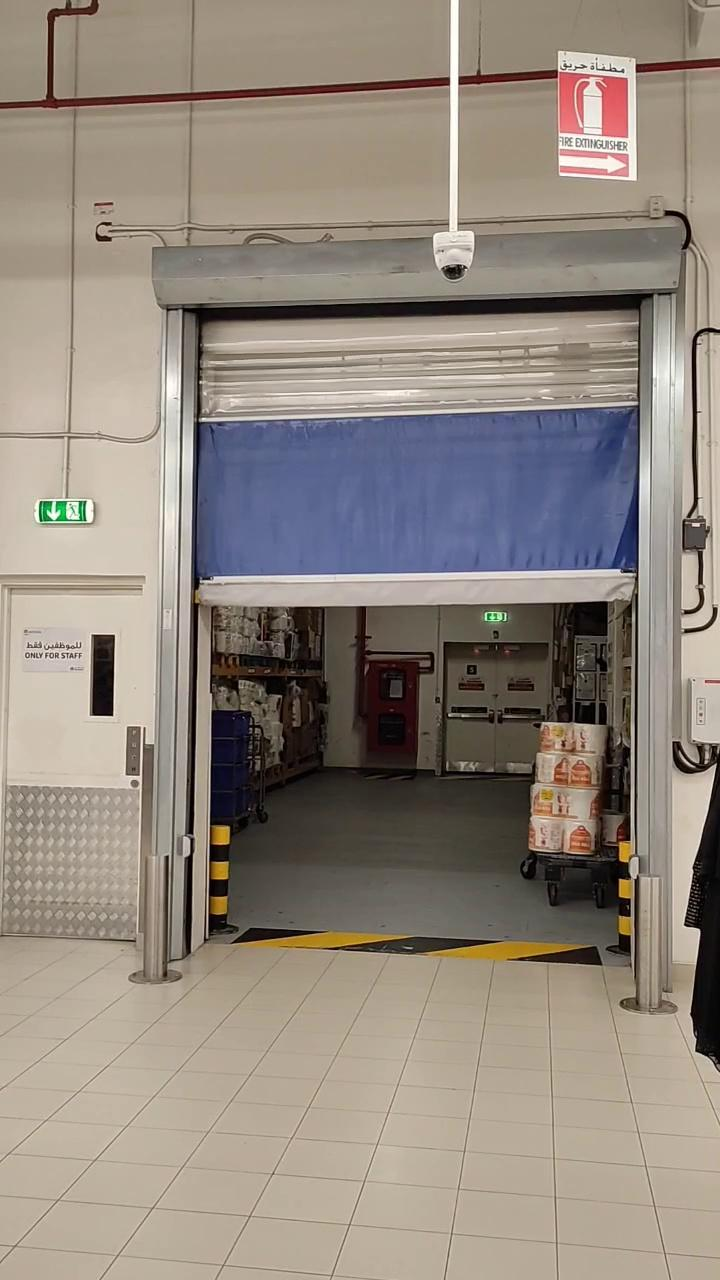Strip: (236, 918, 605, 961)
